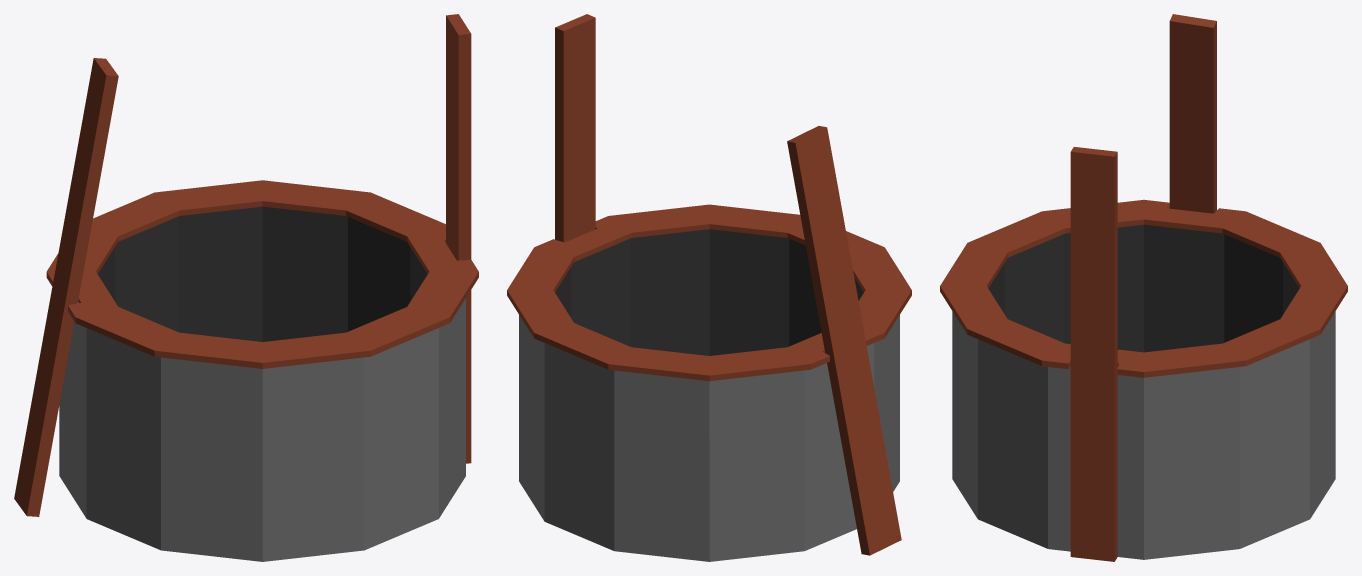
The model's file is kolodec.fbx.
3 renders of one model, left to right at view 1: azimuth 30°, elevation 25°; view 2: azimuth 150°, elevation 25°; view 3: azimuth 270°, elevation 25°, orthographic. The views are drawn at different scales.
Visible parts, largest first — view 1: Cube.039; view 2: Cube.039; view 3: Cube.039.
Boxes of the visible parts, x1=… form: Cube.039: x1=14, y1=14, x2=478, y2=561; Cube.039: x1=507, y1=14, x2=911, y2=561; Cube.039: x1=940, y1=14, x2=1347, y2=561.
Bounding box in the file's own units: 4.26 × 4.31 × 3.91.
